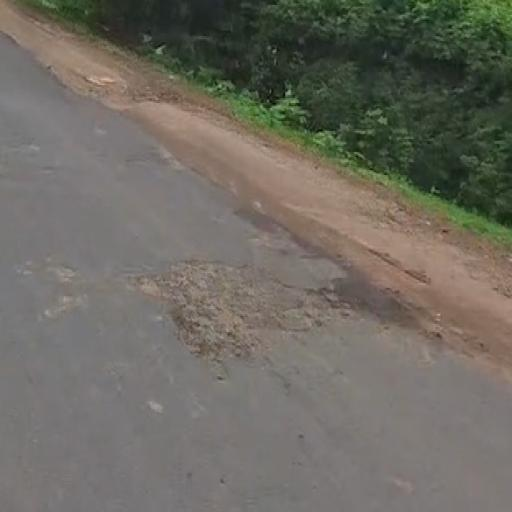ravelling: (114, 205, 425, 419)
